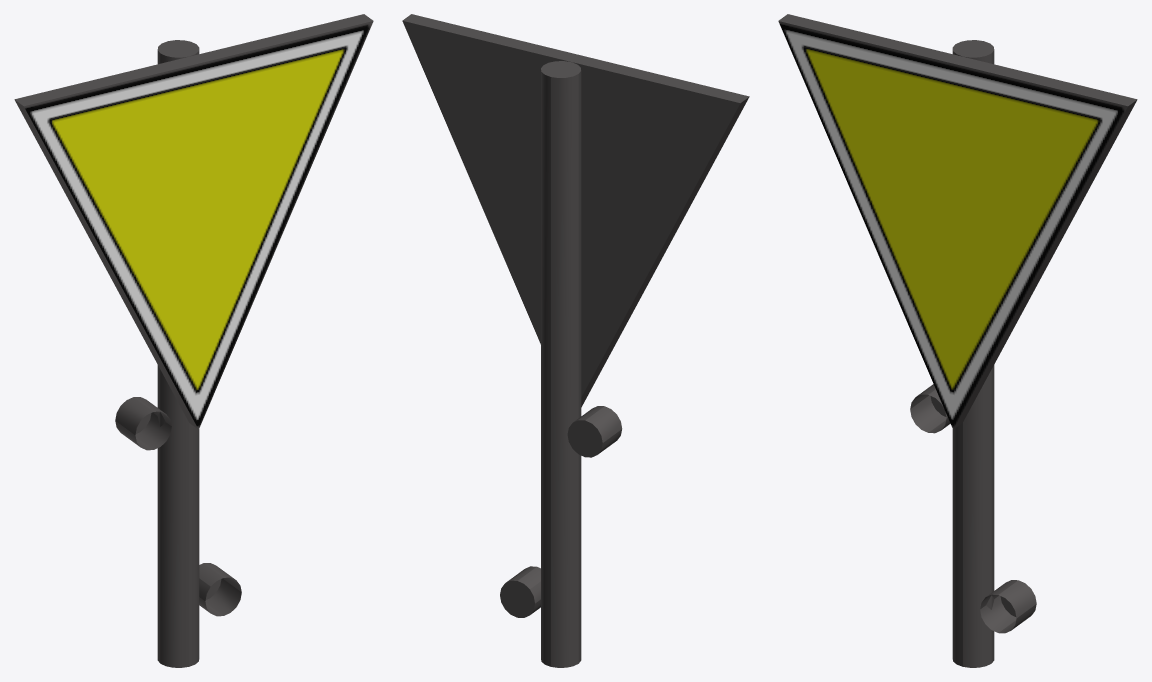
The model's file is signallf1.obj.
3 views of the same model, side by side, from view 1: azimuth 30°, elevation 25°; view 2: azimuth 150°, elevation 25°; view 3: azimuth 330°, elevation 25° (orthographic). The views are drawn at different scales.
Parts seen in each view (by area): view 1: Cube.001_Cube.002, Cube_Cube.000, Cube_Cube.001, Cube_Cube.003; view 2: Cube.001_Cube.002, Cube_Cube.000, Cube_Cube.001, Cube_Cube.003; view 3: Cube.001_Cube.002, Cube_Cube.000, Cube_Cube.003, Cube_Cube.001.
Part boxes in pixels (x1,y1,x2,y2): Cube.001_Cube.002: [14, 14, 373, 429]; Cube_Cube.000: [157, 40, 199, 667]; Cube_Cube.001: [115, 397, 171, 450]; Cube_Cube.003: [199, 563, 241, 616]; Cube.001_Cube.002: [402, 14, 749, 407]; Cube_Cube.000: [541, 61, 581, 667]; Cube_Cube.001: [567, 406, 622, 457]; Cube_Cube.003: [500, 566, 540, 617]; Cube.001_Cube.002: [778, 14, 1137, 429]; Cube_Cube.000: [952, 40, 994, 667]; Cube_Cube.003: [980, 580, 1036, 633]; Cube_Cube.001: [910, 384, 950, 433].
Size of the model in its own units: 0.6 by 1 by 0.0912.
1 material, 1 textured.
